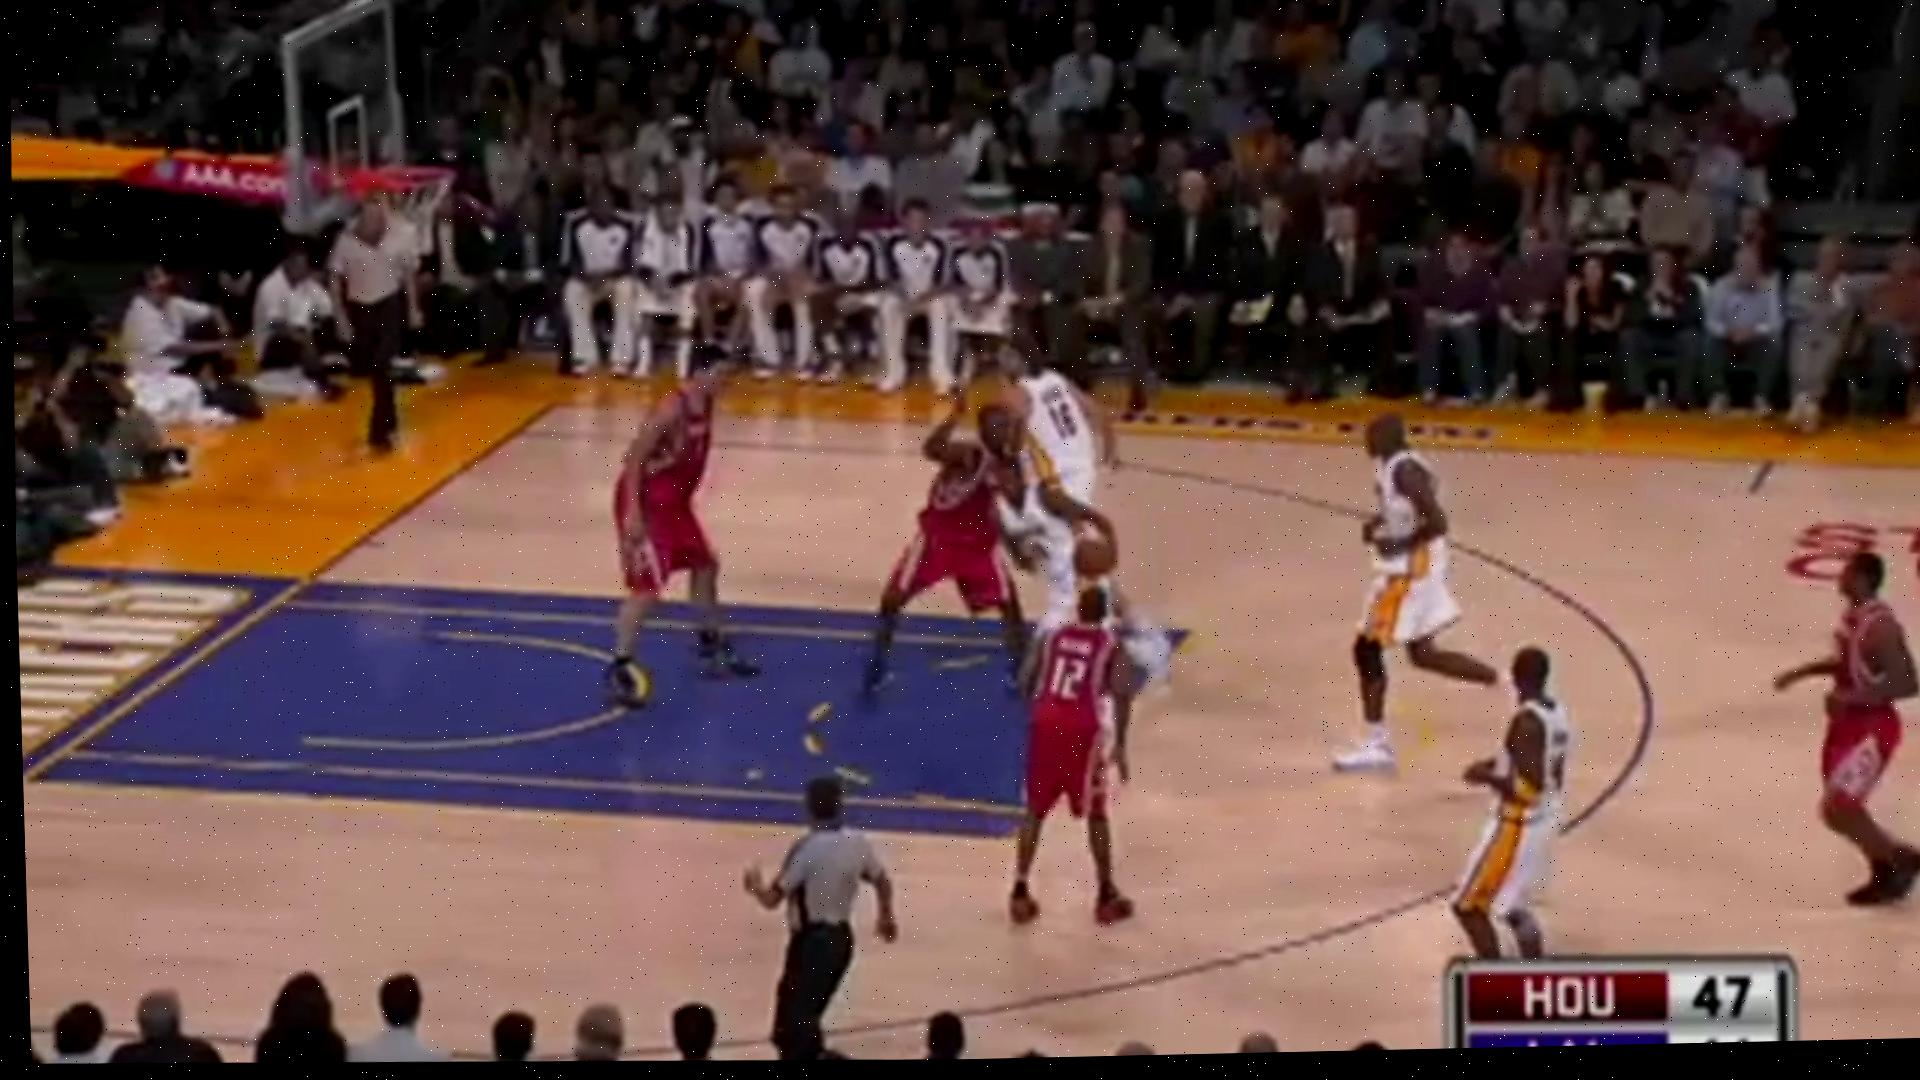no_foul: (913, 388, 1109, 615)
